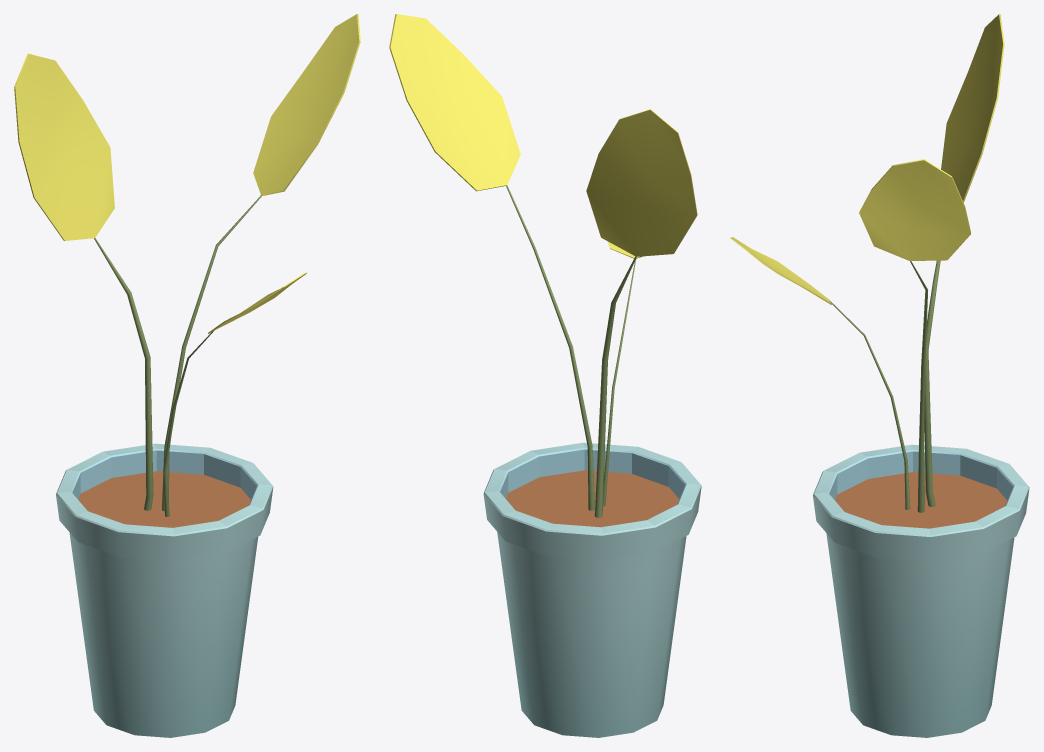
The model's file is Plant.FBX.
3 views of the same model, side by side, from view 1: azimuth 30°, elevation 25°; view 2: azimuth 150°, elevation 25°; view 3: azimuth 270°, elevation 25° (orthographic).
Visible parts, largest first — view 1: PotPlant; view 2: PotPlant; view 3: PotPlant.
Part boxes in pixels (x1,y1,x2,y2): PotPlant: [14, 14, 360, 737]; PotPlant: [389, 14, 701, 737]; PotPlant: [730, 14, 1029, 737].
Bounding box in the file's own units: 24.98 × 48.83 × 20.47.
